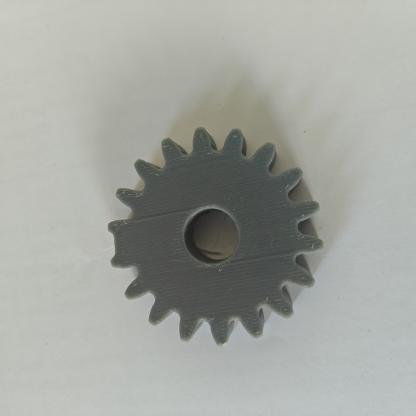defect: (82, 181, 166, 305)
gear: (66, 123, 329, 357)
